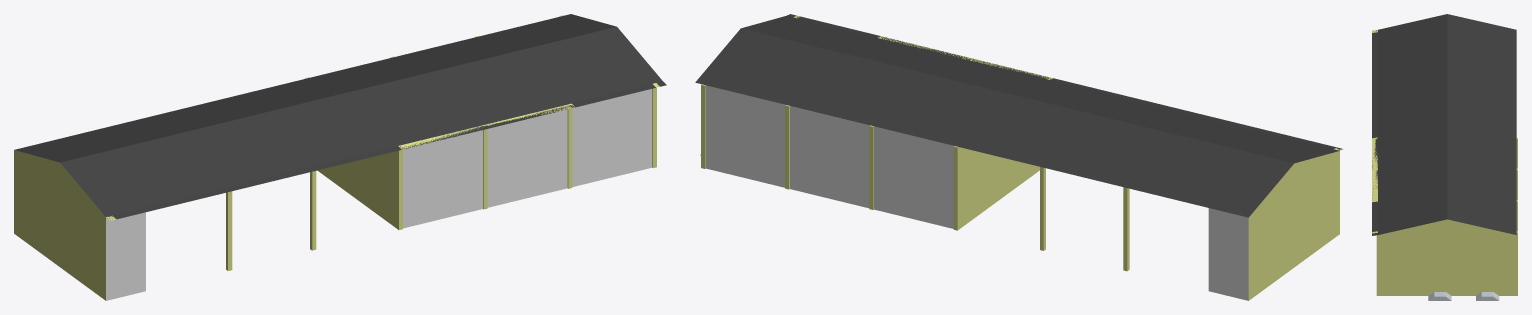
Rendered from subprefeitura.glb.
3 views of the same model, side by side, from view 1: azimuth 30°, elevation 25°; view 2: azimuth 150°, elevation 25°; view 3: azimuth 270°, elevation 25° (orthographic). The views are drawn at different scales.
Parts seen in each view (by area): view 1: Subprefeitura; view 2: Subprefeitura; view 3: Subprefeitura.
Part boxes in pixels (x1,y1,x2,y2): Subprefeitura: (14, 14, 666, 300); Subprefeitura: (695, 14, 1343, 300); Subprefeitura: (1372, 14, 1517, 300).
Size of the model in its own units: 42.25 by 7.5 by 12.54.
